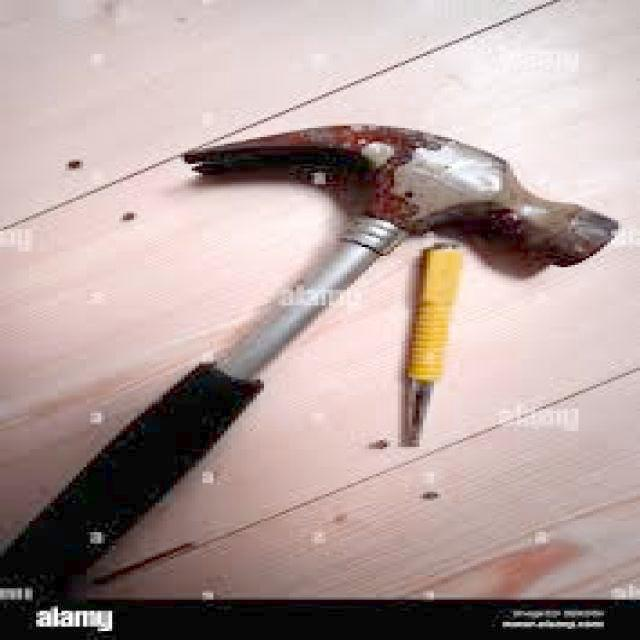hammer: (0, 116, 626, 604)
